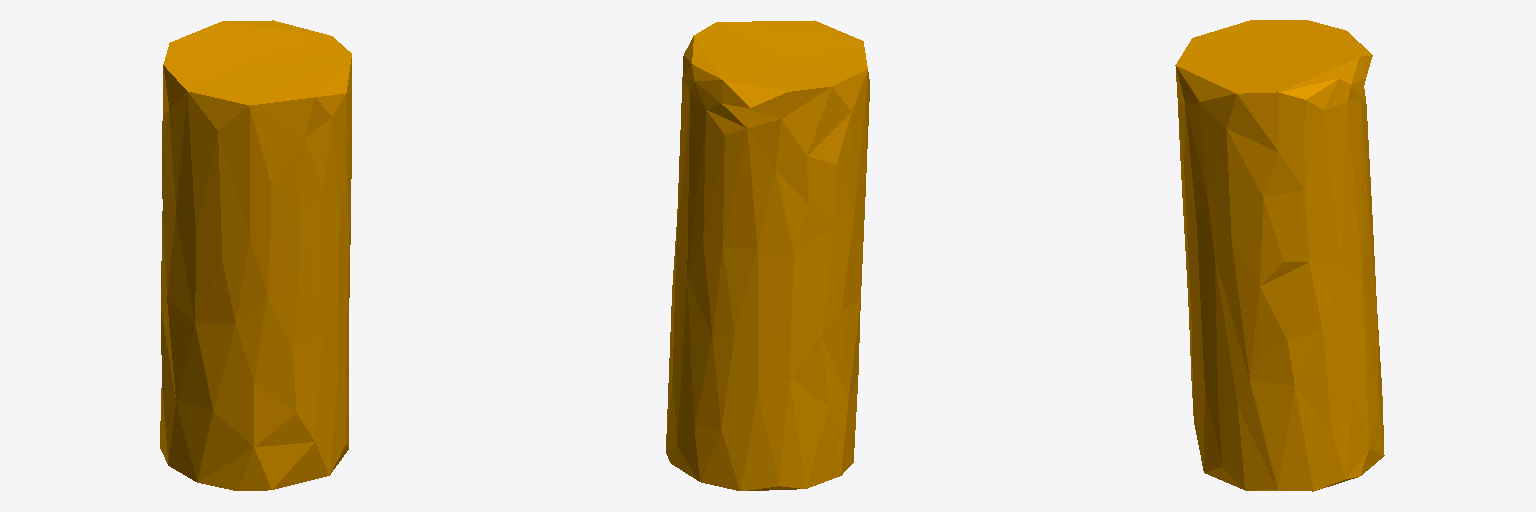
The robot description file, URDF, robot "HerbSalt_800_tex":
<?xml version="1.0"?>
<robot name="HerbSalt_800_tex">
  <link name="base_link">
    <contact>
      <lateral_friction value="1.0"/>
      <rolling_friction value="0.0"/>
      <contact_cfm value="0.0"/>
      <contact_erp value="1.0"/>
    </contact>
    <inertial>
      <mass value="0.0804660652222"/>
      <inertia ixx="1" ixy="0" ixz="0" iyy="1" iyz="0" izz="1"/>
    </inertial>
    <visual>
      <geometry>
        <mesh filename="HerbSalt_800_tex_visual.obj"/>
      </geometry>
    </visual>
    <collision>
      <geometry>
        <mesh filename="HerbSalt_800_tex_collision.obj"/>
      </geometry>
    </collision>
  </link>
</robot>

--- Render facts (derived) ---
The picture shows the robot from 3 angles, left to right: view 1: azimuth 30°, elevation 25°; view 2: azimuth 150°, elevation 25°; view 3: azimuth 270°, elevation 25°; orthographic projection.
Robot: HerbSalt_800_tex — 1 links, 0 joints (none); root link base_link; default pose: all joints at 0.
Visible links, largest first — view 1: base_link; view 2: base_link; view 3: base_link.
Link boxes in pixels (left/top/right/bottom): base_link: left=160, top=20, right=351, bottom=490; base_link: left=666, top=20, right=869, bottom=490; base_link: left=1175, top=20, right=1384, bottom=491.
Bounding box of the posed robot: 0.0417 × 0.0446 × 0.0946 m (x, y, z).
1 mesh visuals loaded from 1 distinct referenced files (1 OBJ).